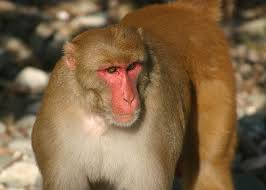monkey: (30, 10, 250, 190)
